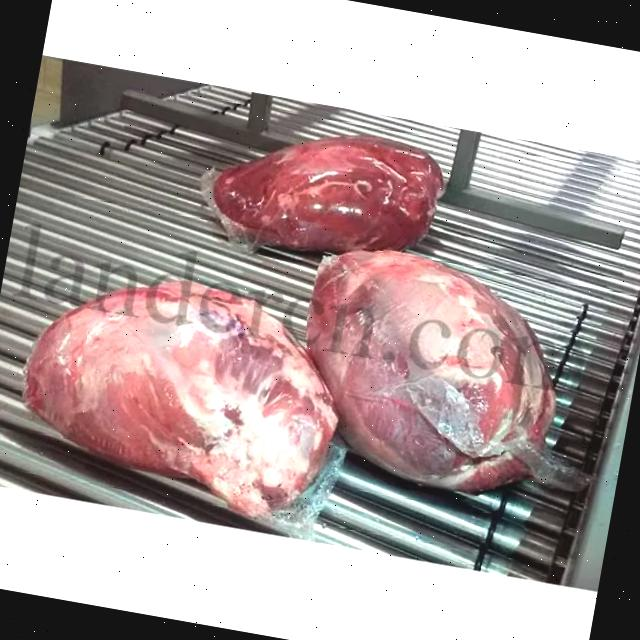meat: (0, 249, 353, 535), (281, 216, 575, 523), (146, 81, 476, 291)
